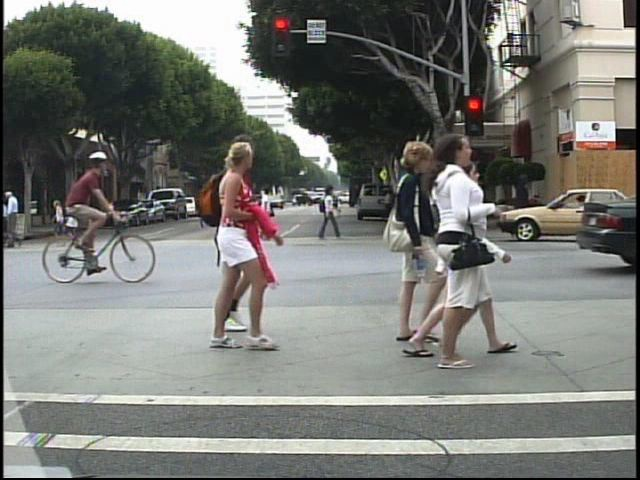person: (418, 136, 512, 376), (423, 159, 521, 361), (183, 140, 274, 349), (214, 145, 267, 341), (382, 139, 429, 347), (52, 147, 117, 277), (311, 183, 345, 245), (419, 177, 448, 239), (7, 187, 26, 252), (381, 187, 396, 223)
